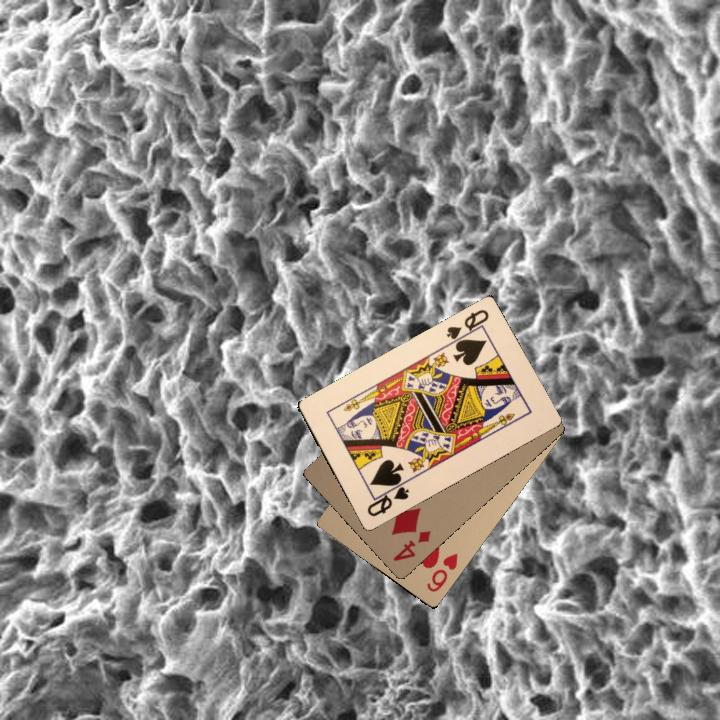4d: (389, 526, 434, 564)
6h: (422, 549, 461, 595)
Qs: (442, 305, 492, 347), (363, 477, 412, 519)
